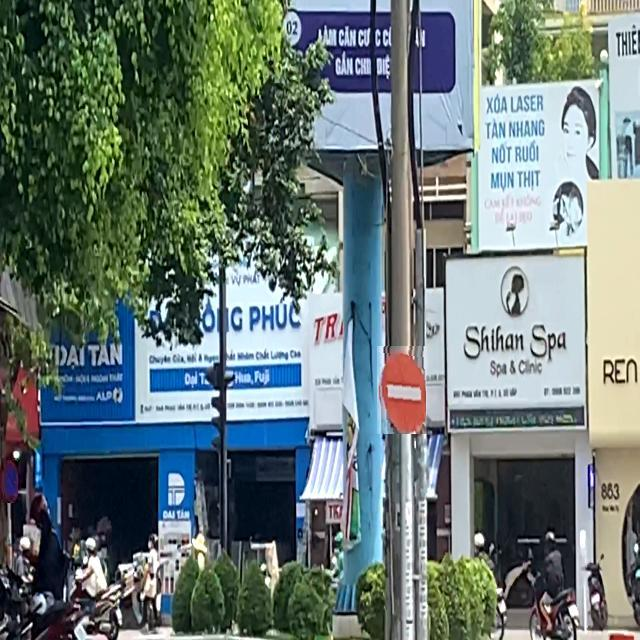P-102: (378, 347, 428, 435)
P-131a: (2, 458, 18, 503)
